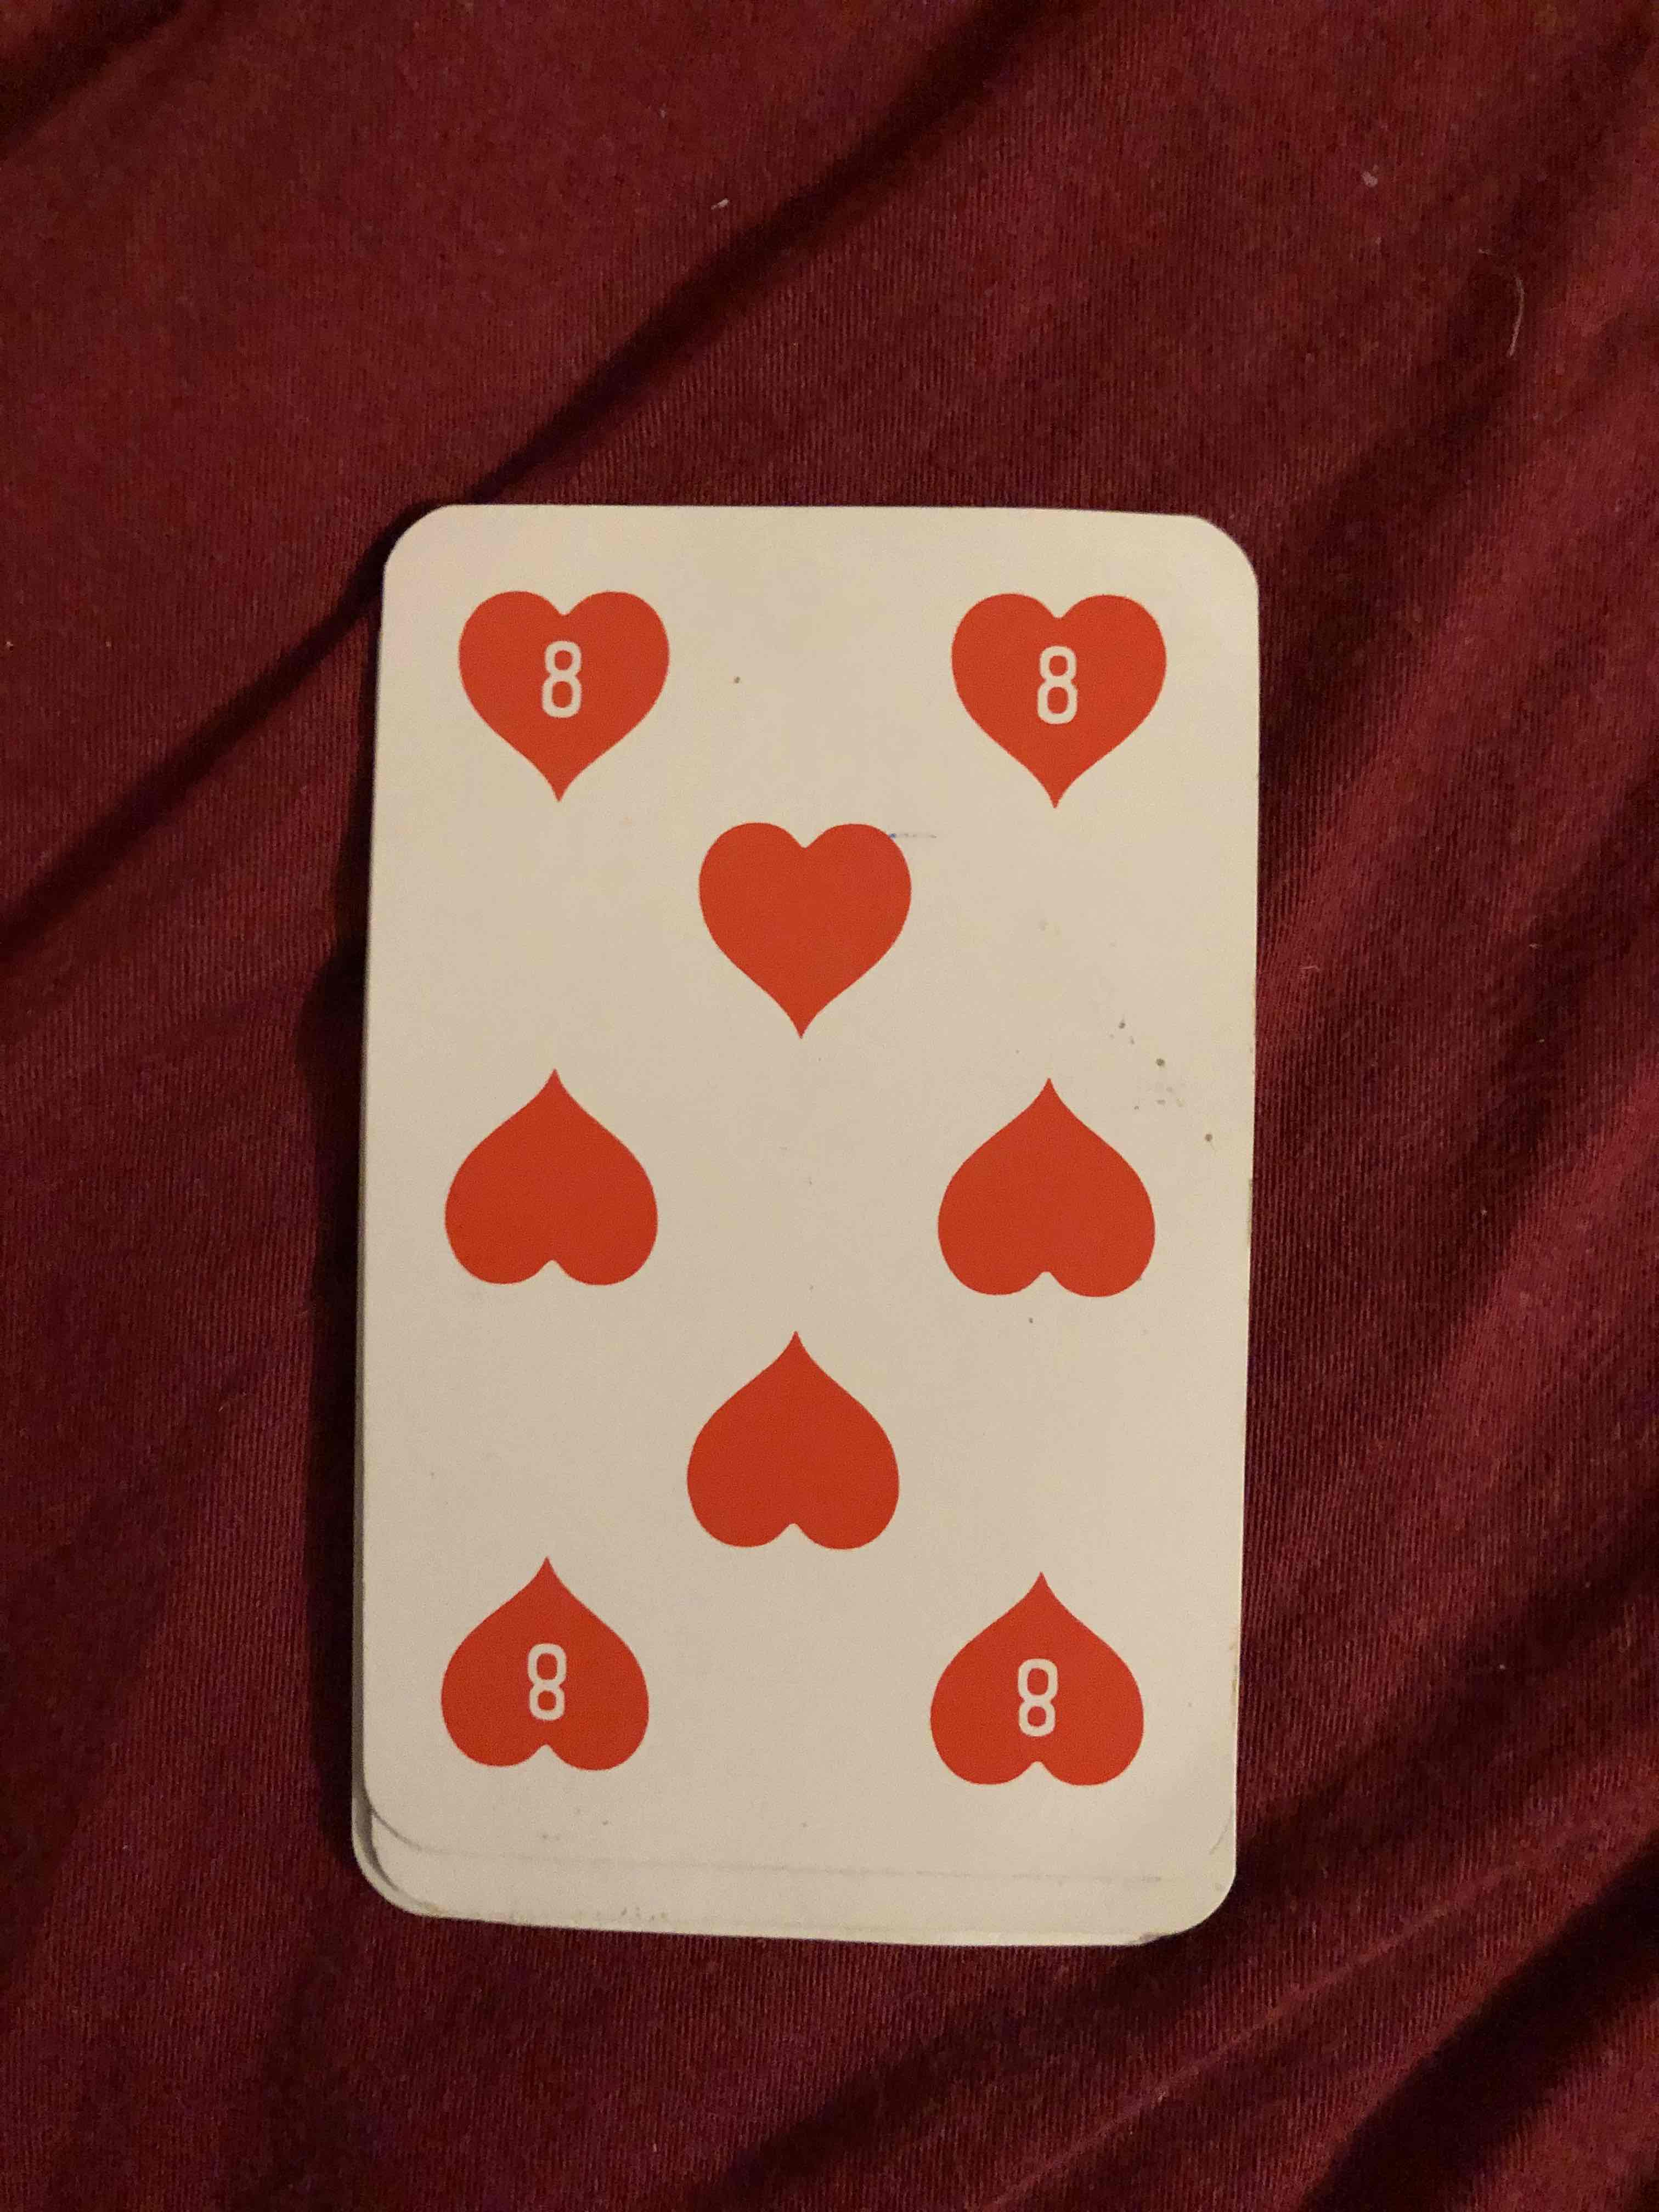hearts8: (382, 503, 1241, 1890)
